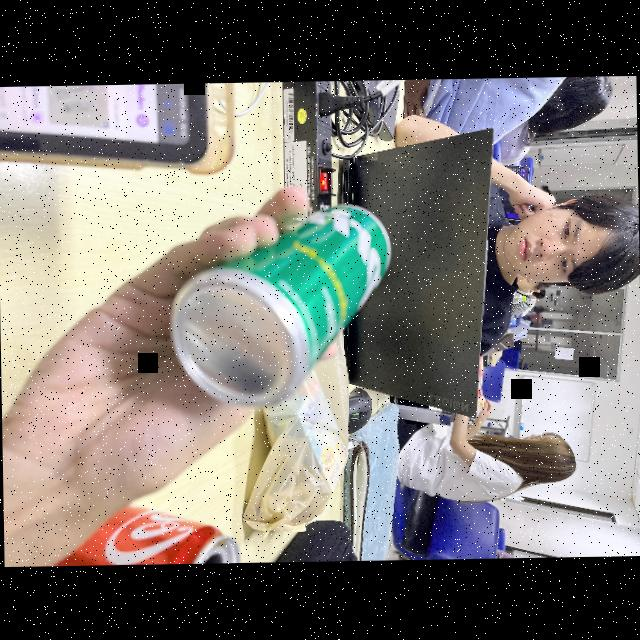can: (170, 183, 396, 404), (68, 504, 253, 564)
